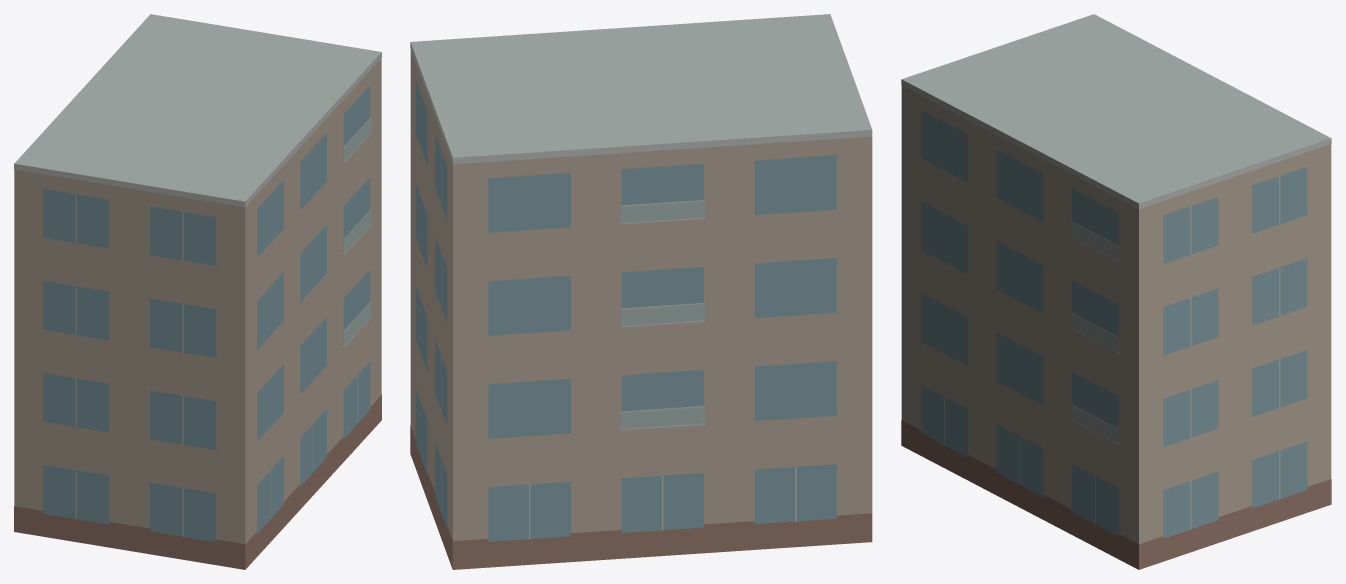
Rendered from survey-upis-32766559.glb.
3 views of the same model, side by side, from view 1: azimuth 30°, elevation 25°; view 2: azimuth 150°, elevation 25°; view 3: azimuth 270°, elevation 25° (orthographic). The views are drawn at different scales.
Parts seen in each view (by area): view 1: survey-upis-32766559.tmp; view 2: survey-upis-32766559.tmp; view 3: survey-upis-32766559.tmp.
Boxes of the visible parts, x1=… form: survey-upis-32766559.tmp: x1=14, y1=14, x2=381, y2=569; survey-upis-32766559.tmp: x1=410, y1=14, x2=872, y2=569; survey-upis-32766559.tmp: x1=901, y1=14, x2=1331, y2=569.
Bounding box in the file's own units: 17.12 × 15.43 × 16.42.
